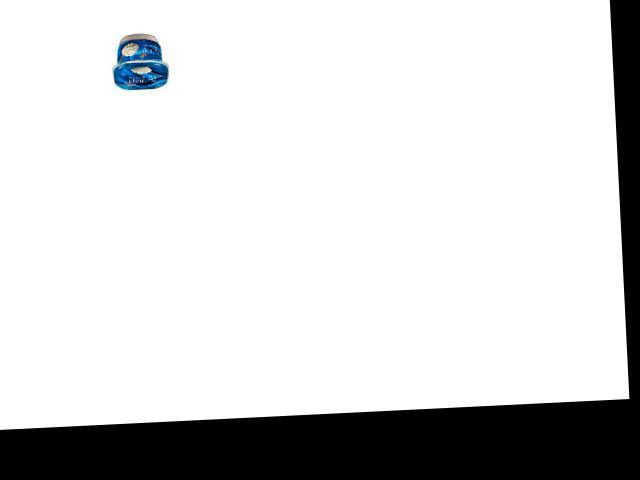cotage: (107, 32, 172, 92)
